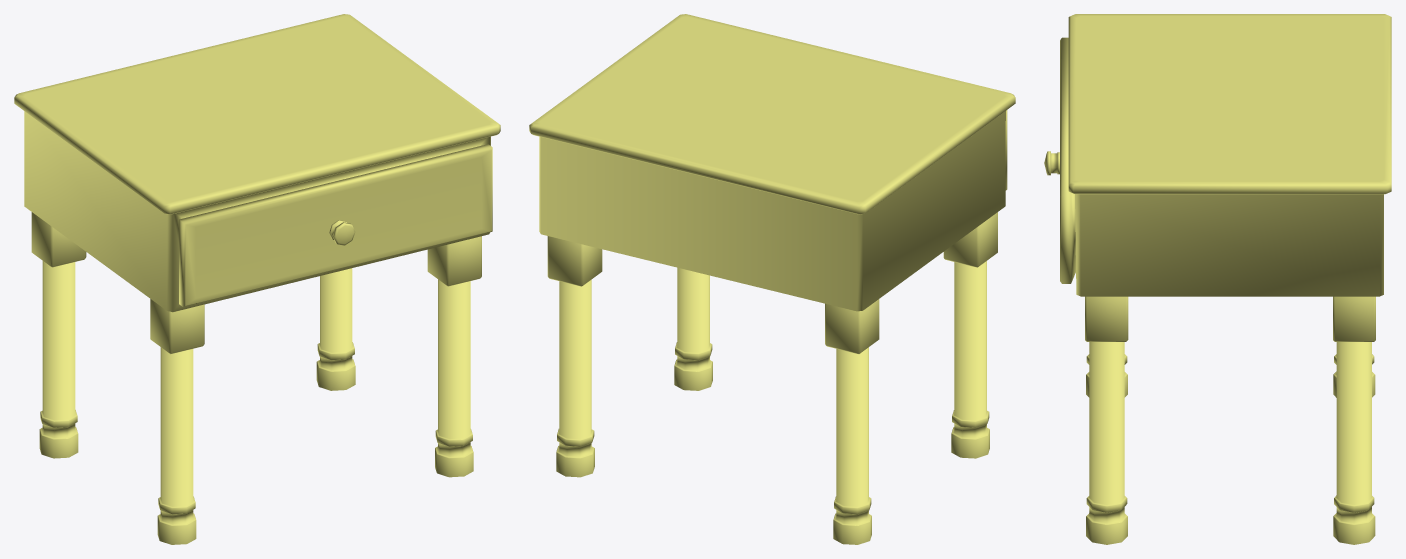
File: SmallTable_Z.fbx
The picture shows the model from 3 angles, left to right: view 1: azimuth 30°, elevation 25°; view 2: azimuth 150°, elevation 25°; view 3: azimuth 270°, elevation 25°; orthographic projection. The views are drawn at different scales.
Parts seen in each view (by area): view 1: pCube7; view 2: pCube7; view 3: pCube7.
Boxes of the visible parts, x1,y1,x2,y2 form: pCube7: [14, 14, 500, 544]; pCube7: [529, 14, 1015, 544]; pCube7: [1044, 14, 1391, 544].
Bounding box in the file's own units: 0.8942 × 0.8902 × 0.7645.
